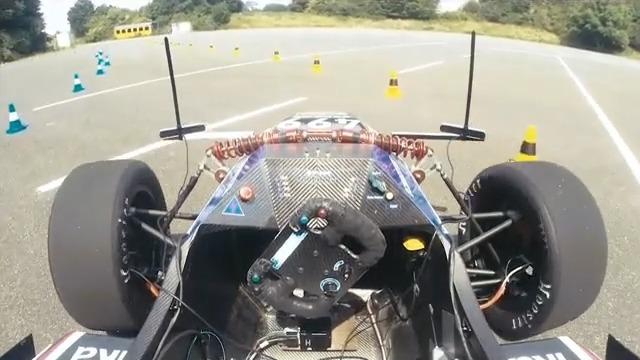blue_cone: (4, 103, 29, 135), (72, 73, 86, 92)
yellow_cone: (508, 127, 541, 185), (385, 70, 405, 97), (309, 53, 325, 74)
